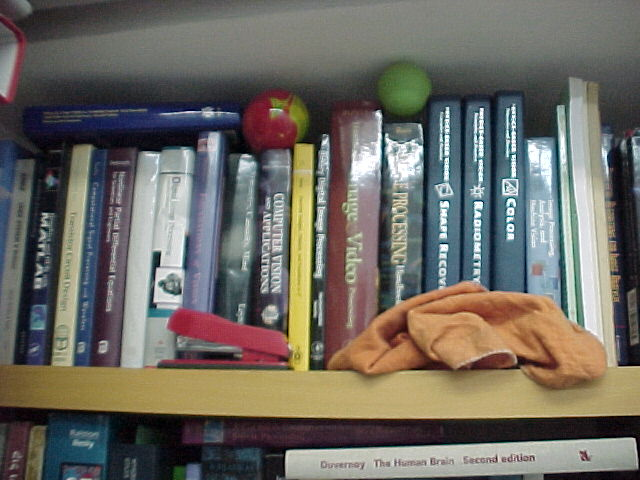WONDERBALL: (233, 85, 311, 156)
